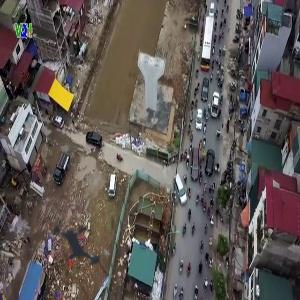drone: (26, 192, 127, 293)
